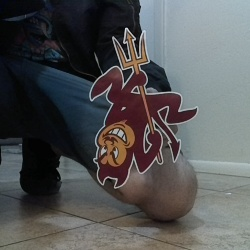sparky: (88, 26, 197, 188)
